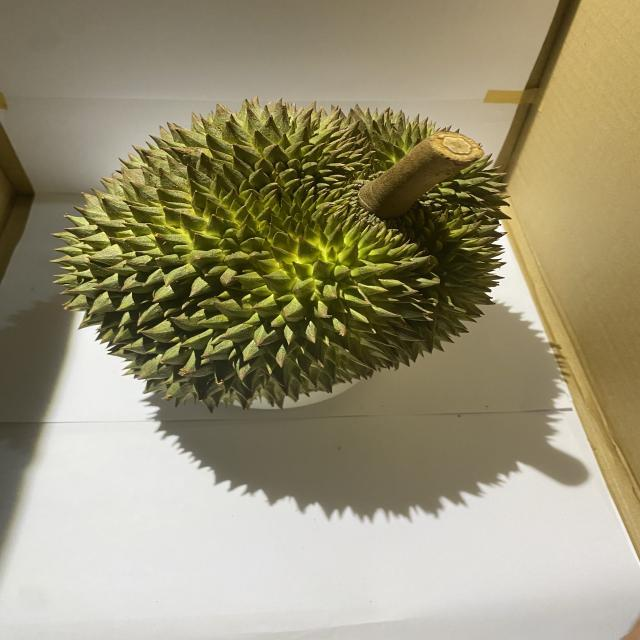immature: (53, 94, 515, 418)
